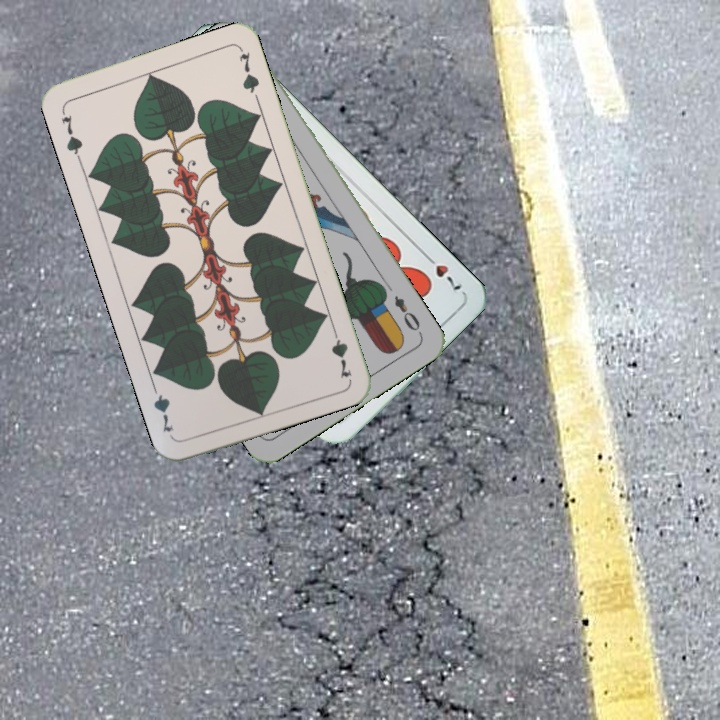EO: (390, 291, 425, 338)
G7: (56, 106, 85, 163), (327, 322, 355, 381)
H7: (419, 248, 467, 297)
